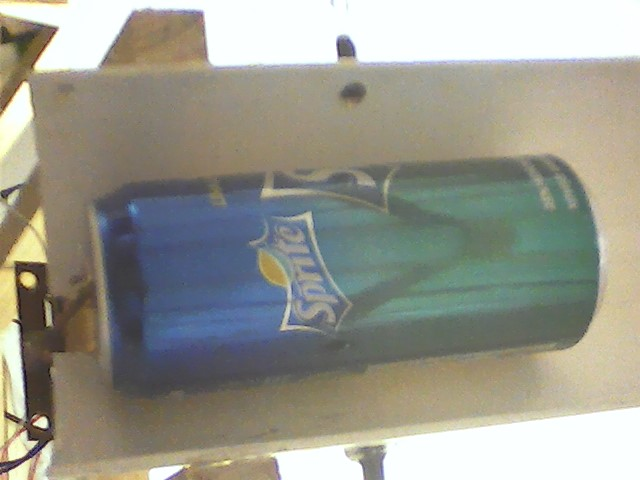lata: (78, 145, 613, 405)
